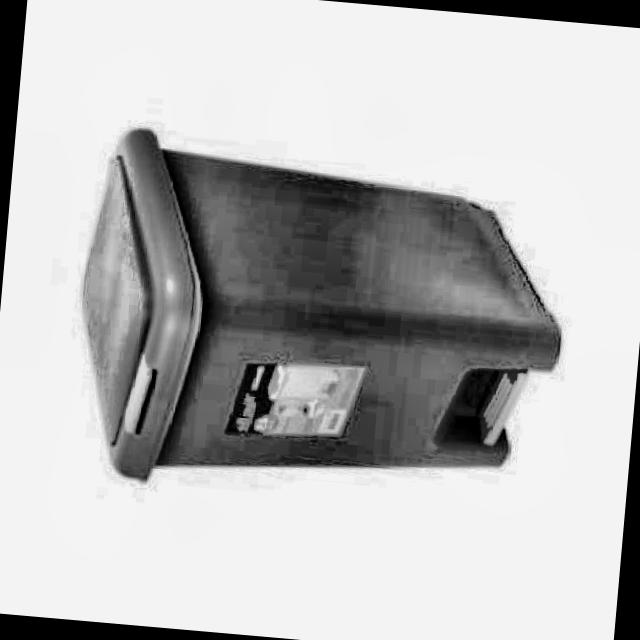Dustbin: (51, 102, 585, 526)
